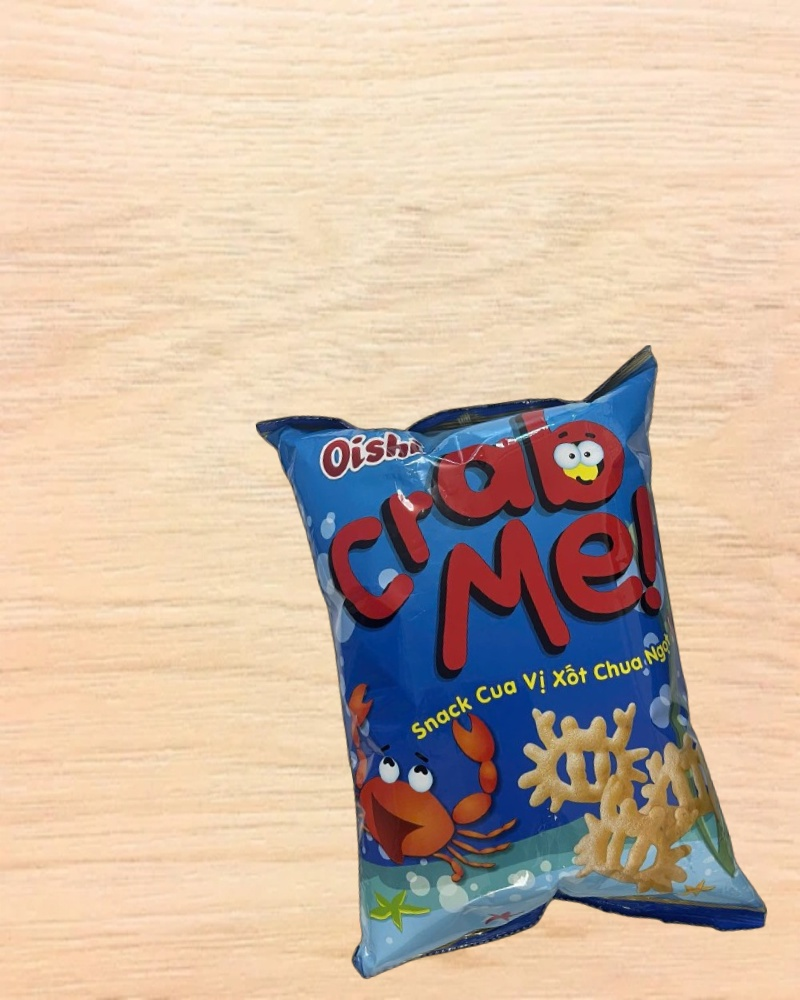Snack chay: (255, 343, 770, 1000)
